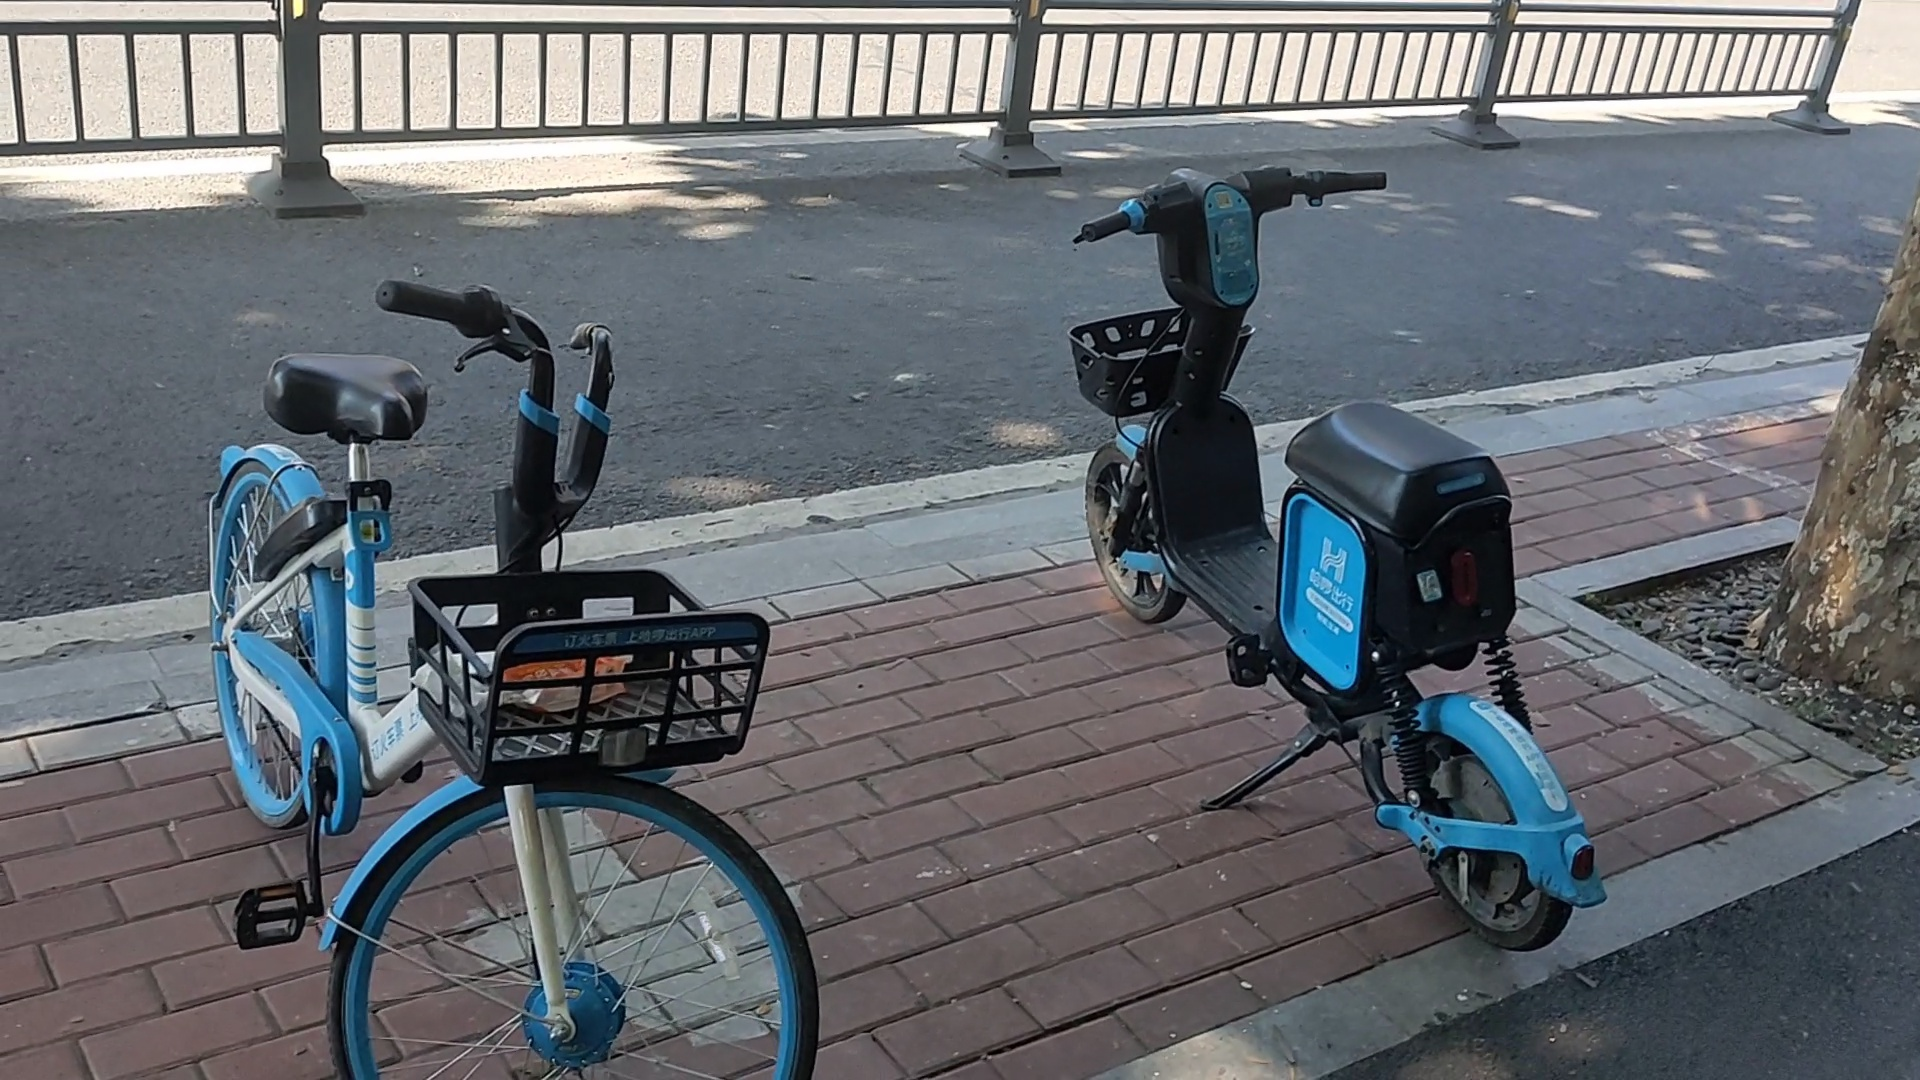non-vehicle: (169, 237, 807, 1080), (1054, 157, 1611, 960)
